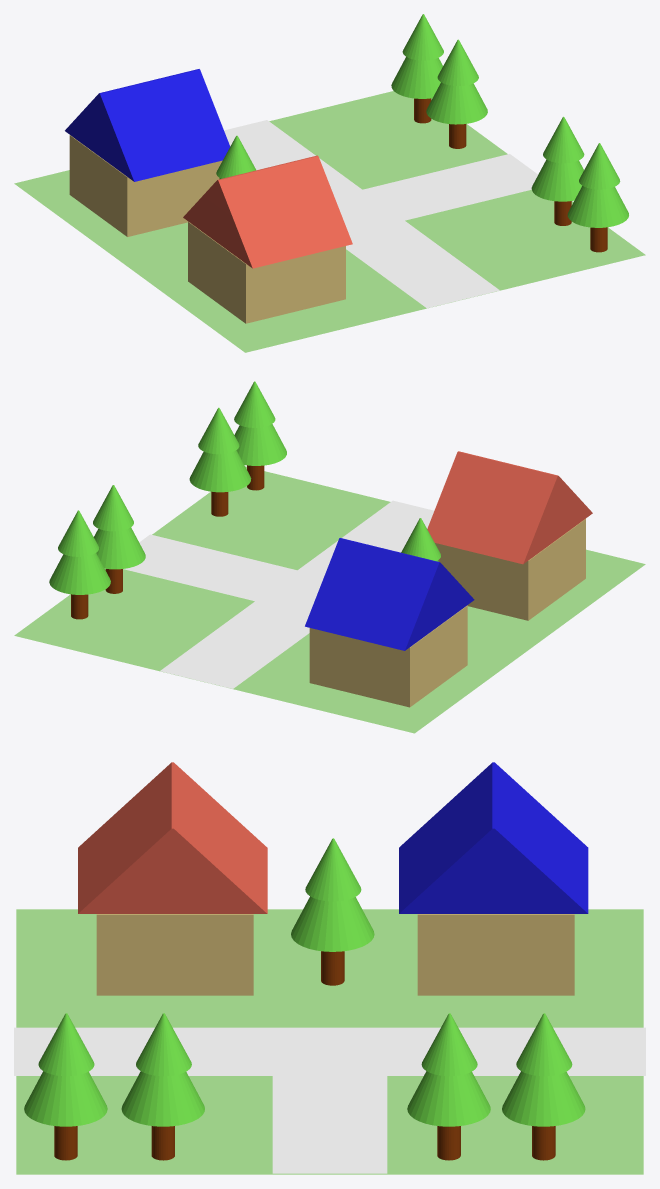
Rendered from firstgodot.gltf.
3 views of the same model, one above another, from view 1: azimuth 30°, elevation 25°; view 2: azimuth 150°, elevation 25°; view 3: azimuth 270°, elevation 25° (orthographic). The views are drawn at different scales.
Parts seen in each view (by area): view 1: Plane, Cube_001, Cube_002, Plane_002, Cube, Cube_003, Plane_001, Cylinder_007, Cylinder_010, Cylinder_013, Cylinder_004, Cylinder_003 (+4 smaller); view 2: Plane, Cube_002, Cube_001, Plane_002, Cube_003, Cube, Plane_001, Cylinder_013, Cylinder_004, Cylinder_010, Cylinder_007, Cylinder_014 (+4 smaller); view 3: Plane, Plane_002, Cube_001, Cube_002, Cube, Cube_003, Plane_001, Cylinder_010, Cylinder_013, Cylinder_004, Cylinder_007, Cylinder_001 (+10 smaller).
Part boxes in pixels (left/top/right/bottom): Plane: left=14, top=91, right=645, bottom=352; Cube_001: left=183, top=155, right=352, bottom=268; Cube_002: left=65, top=69, right=230, bottom=181; Plane_002: left=224, top=120, right=499, bottom=308; Cube: left=188, top=221, right=345, bottom=323; Cube_003: left=69, top=135, right=222, bottom=236; Plane_001: left=335, top=154, right=537, bottom=222; Cylinder_007: left=426, top=82, right=487, bottom=124; Cylinder_010: left=567, top=186, right=628, bottom=227; Cylinder_013: left=531, top=159, right=583, bottom=201; Cylinder_004: left=391, top=57, right=442, bottom=98; Cylinder_003: left=402, top=14, right=443, bottom=60; Plane: left=14, top=466, right=645, bottom=733; Cube_002: left=305, top=538, right=474, bottom=650; Cube_001: left=427, top=451, right=592, bottom=564; Plane_002: left=160, top=500, right=433, bottom=688; Cube_003: left=309, top=605, right=467, bottom=707; Cube: left=435, top=518, right=585, bottom=620; Plane_001: left=123, top=534, right=323, bottom=607; Cylinder_013: left=189, top=450, right=251, bottom=492; Cylinder_004: left=49, top=553, right=110, bottom=594; Cylinder_010: left=234, top=424, right=286, bottom=465; Cylinder_007: left=94, top=527, right=145, bottom=569; Cylinder_014: left=198, top=407, right=239, bottom=454; Plane: left=16, top=909, right=643, bottom=1174; Plane_002: left=14, top=1027, right=645, bottom=1075; Cube_001: left=78, top=762, right=267, bottom=913; Cube_002: left=399, top=762, right=588, bottom=913; Cube: left=96, top=914, right=253, bottom=995; Cube_003: left=417, top=914, right=574, bottom=995; Plane_001: left=272, top=1076, right=387, bottom=1173; Cylinder_010: left=24, top=1071, right=107, bottom=1126; Cylinder_013: left=121, top=1071, right=204, bottom=1126; Cylinder_004: left=502, top=1071, right=585, bottom=1126; Cylinder_007: left=407, top=1071, right=490, bottom=1126; Cylinder_001: left=291, top=896, right=374, bottom=951.
Size of the model in its own units: 40.06 by 12.04 by 40.3.
